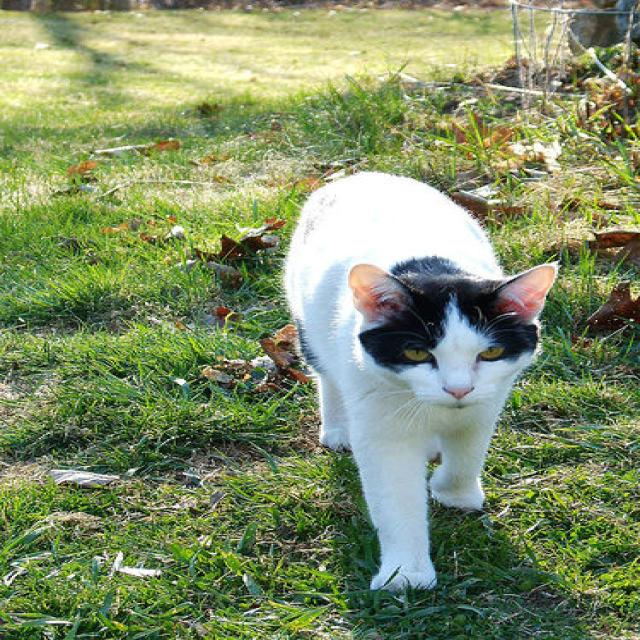cat: (281, 171, 559, 595)
